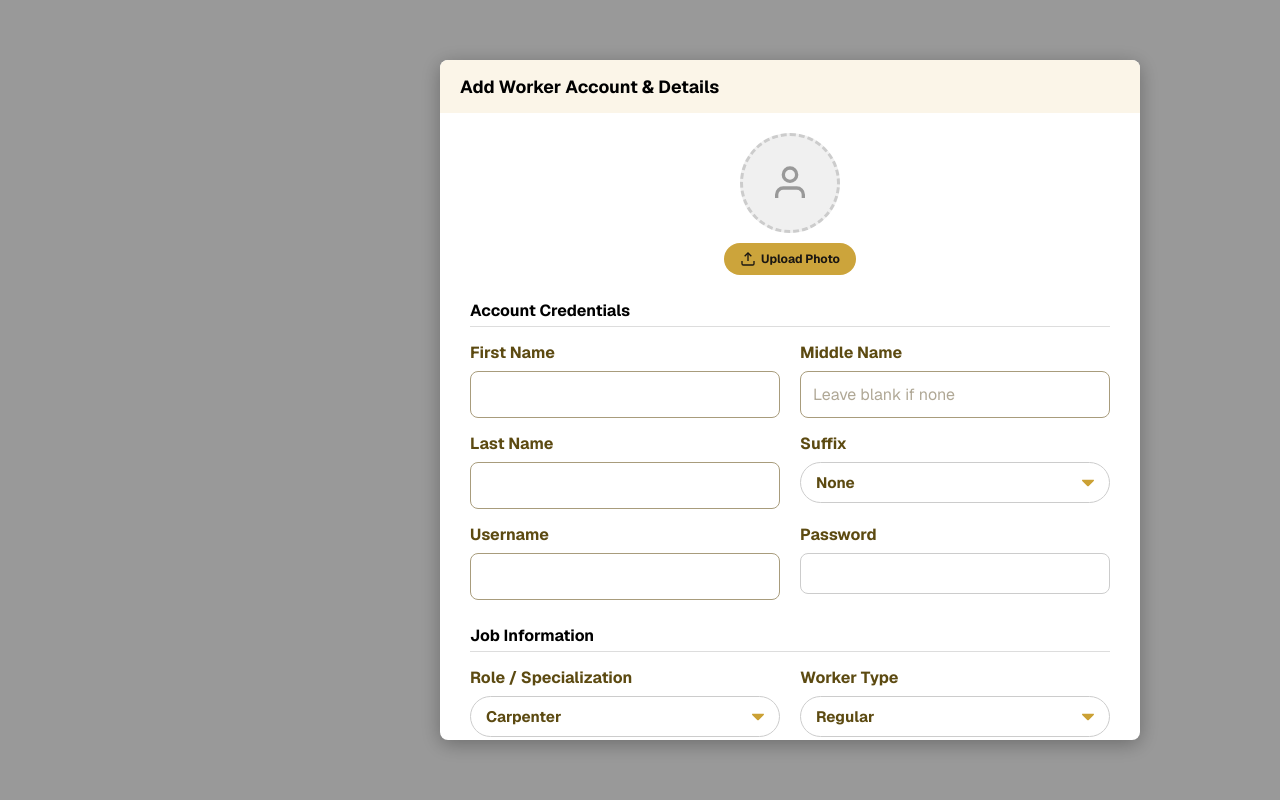
Test: AddWorkerModal › strips digits typed into the name fields
This screenshot has width=1280, height=800.
In the field labelled "First Name": (625, 394) [470,371,780,418], type "Juan123"
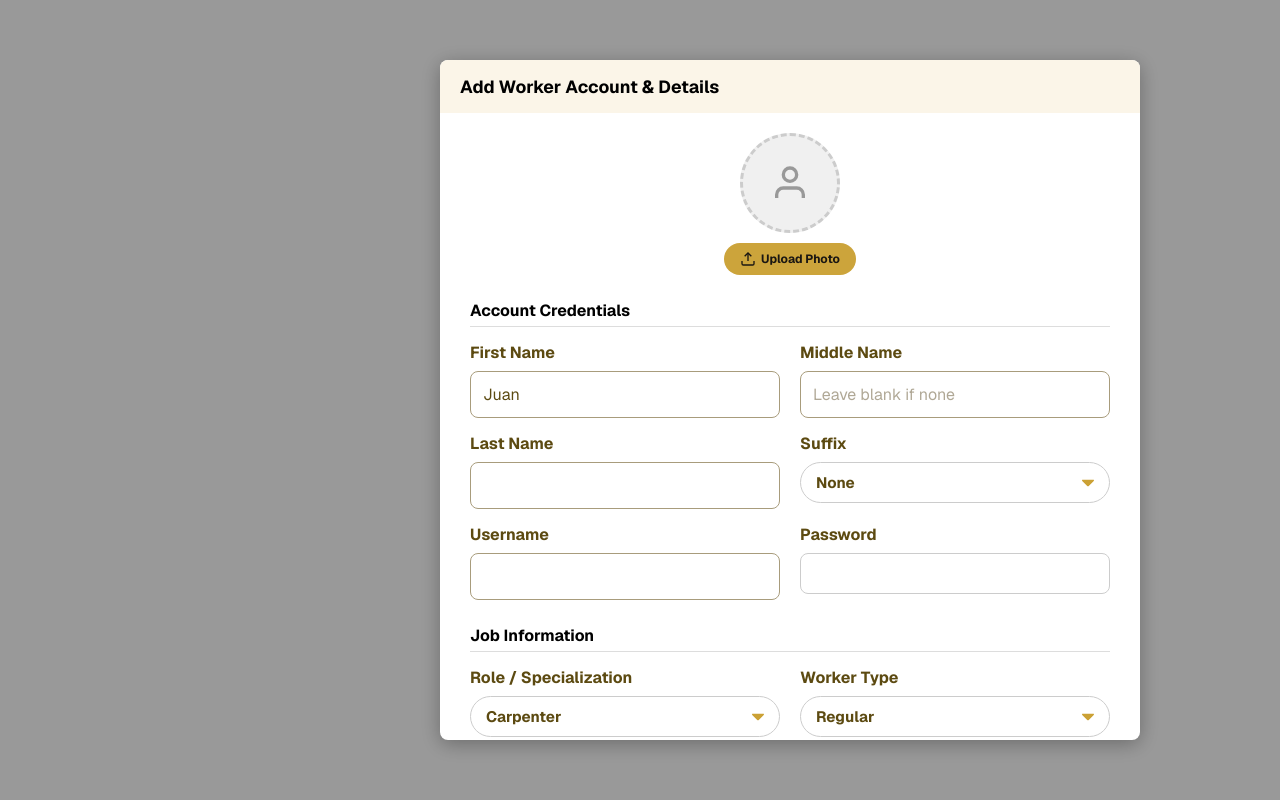
Result: the field labelled "First Name" holds "Juan" at [470,371,780,418]
